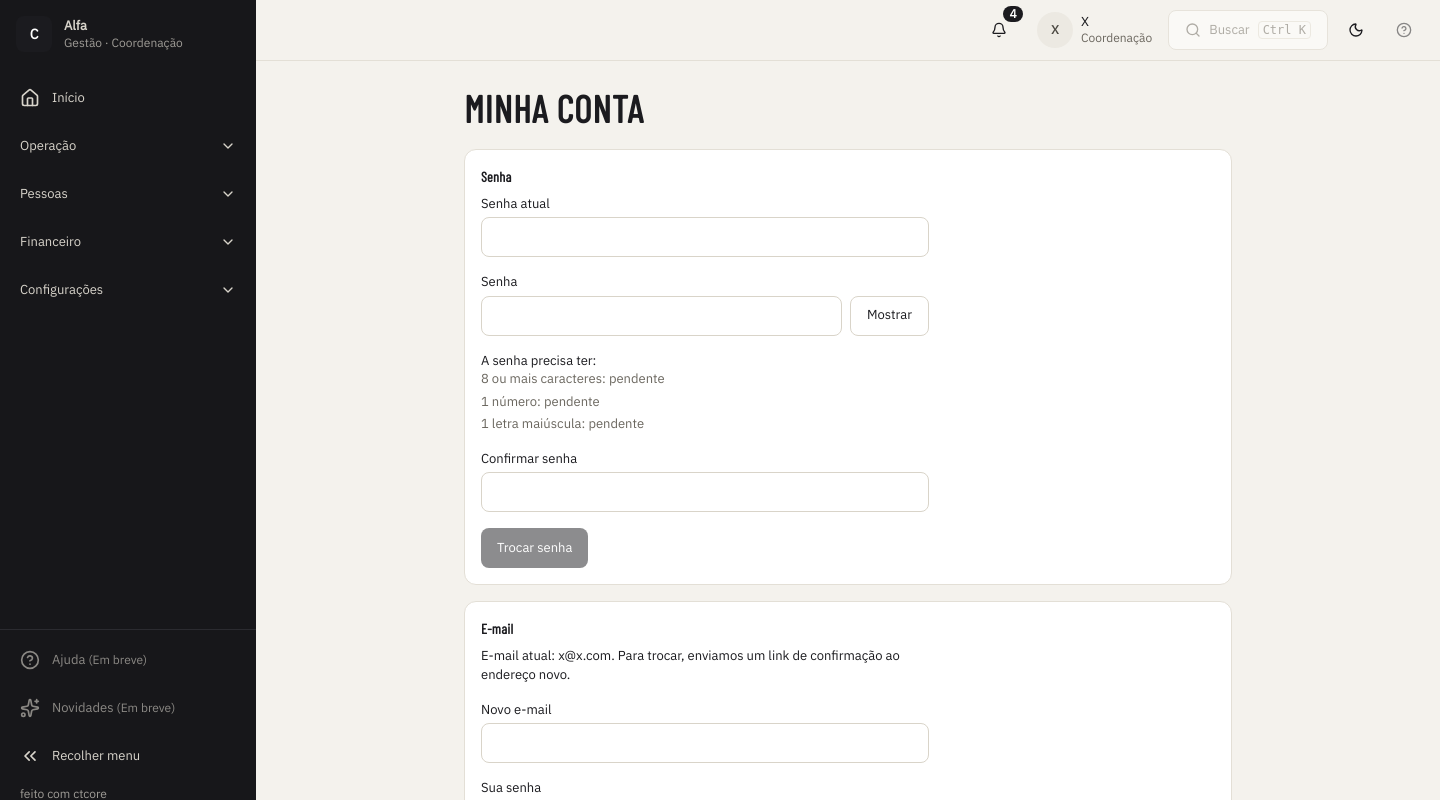
AccountPage: senha (CA1, CA2) › repetição diferente não deixa enviar
Type "Atual12345" into the password field labelled "Senha atual" at (705, 237), box [481,217,929,257]
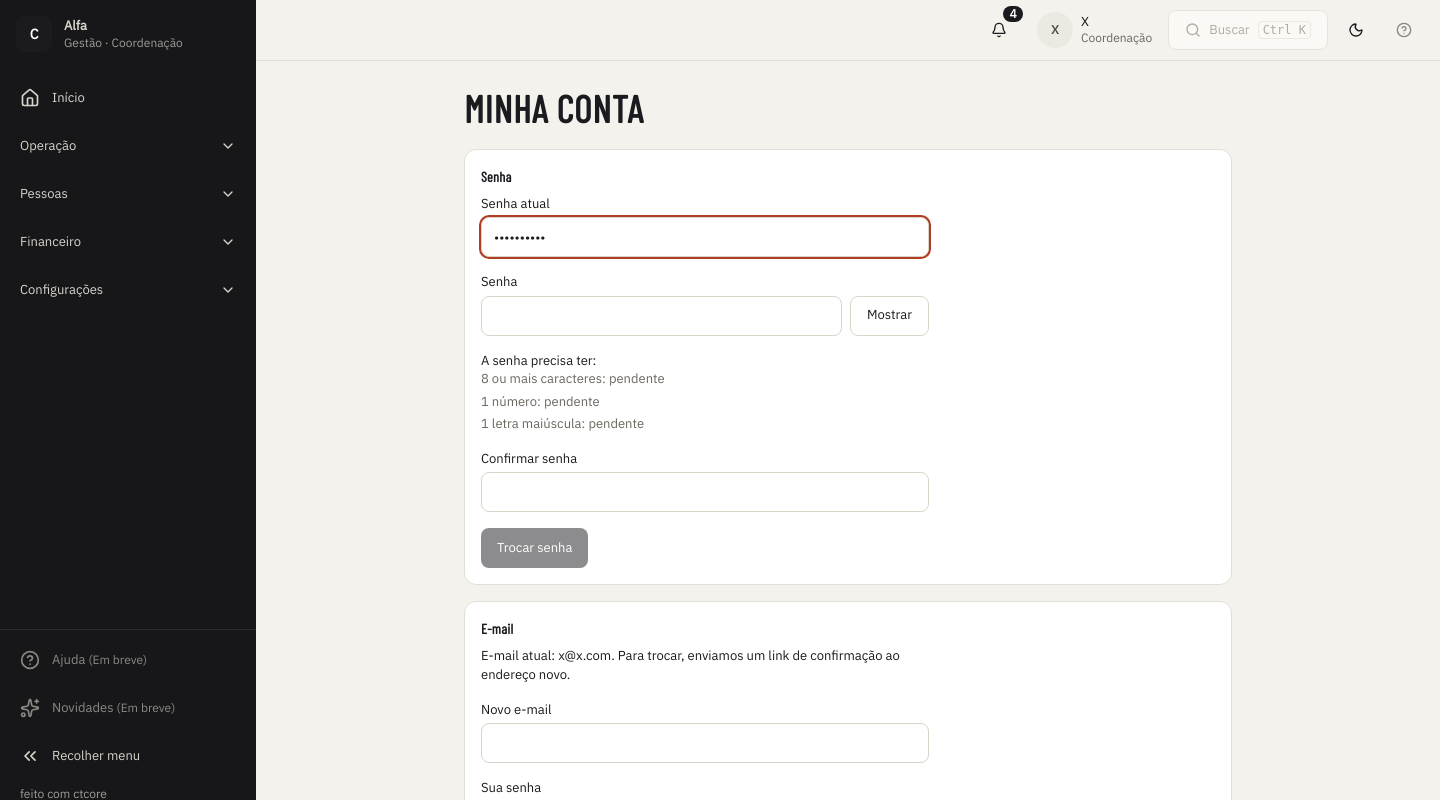
Type "NovaSenha123" into the password field labelled "Senha" at (661, 316), box [481,296,842,336]
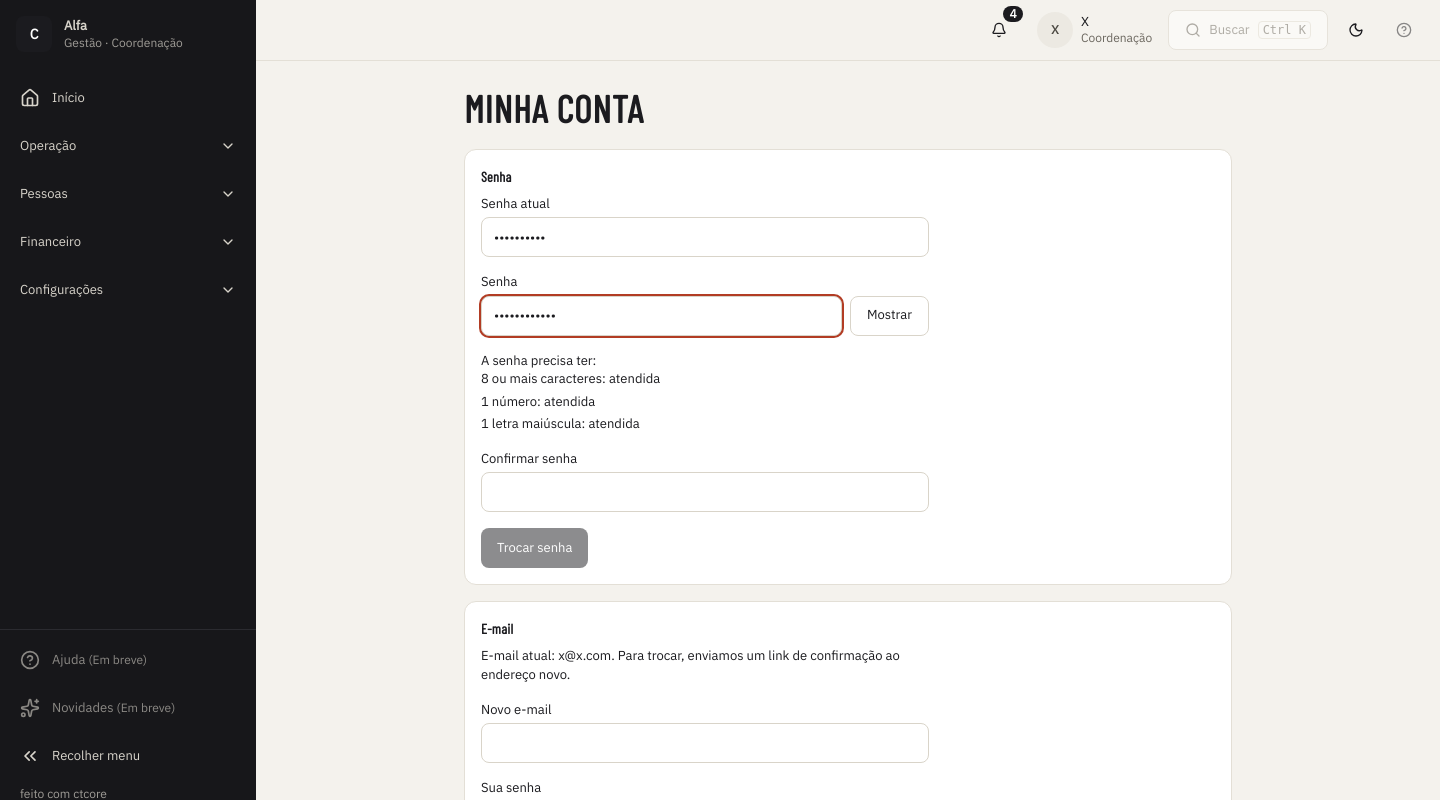
Type "Outra12345" into the password field labelled "Confirmar senha" at (705, 492), box [481,472,929,512]
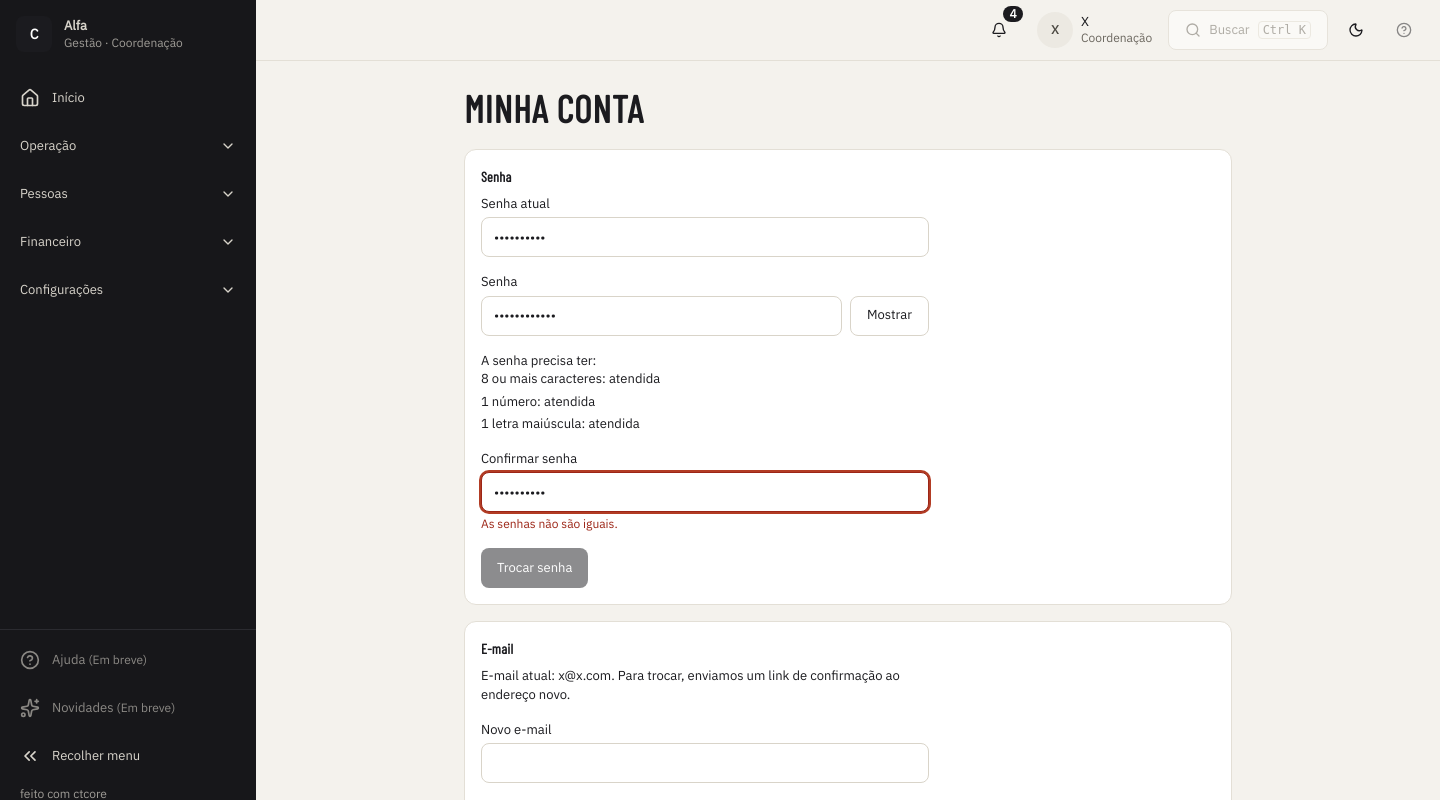
Expected: the button "Trocar senha" is disabled, [481,548,588,588]
Result: the text "As senhas não são iguais." is shown at [481,516,618,531]
